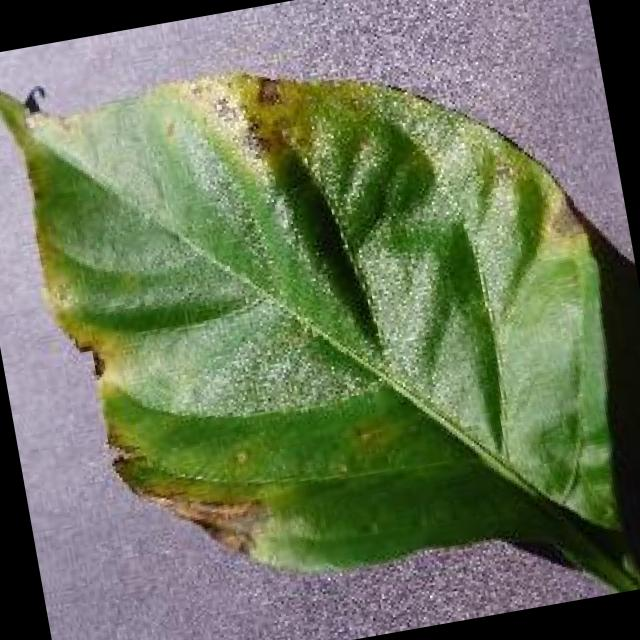Chilli_Bacterial_Spot: (0, 0, 640, 640), (226, 60, 324, 174), (340, 412, 400, 464), (250, 70, 288, 110)
